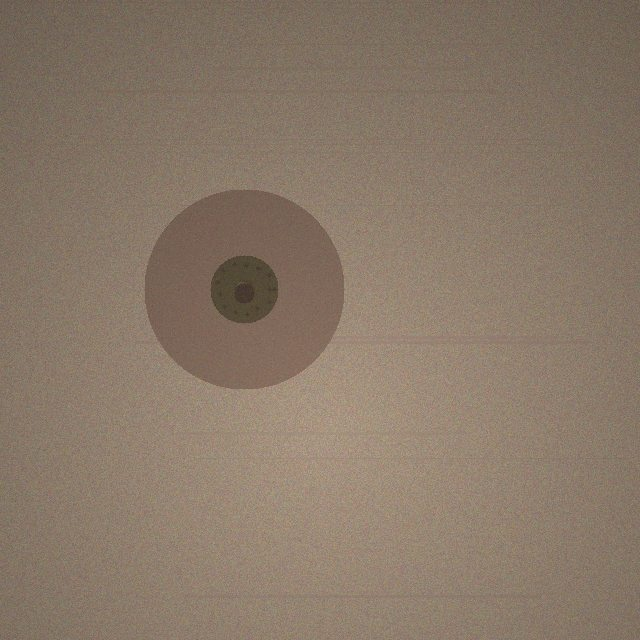cold_weld: (144, 189, 344, 389)
